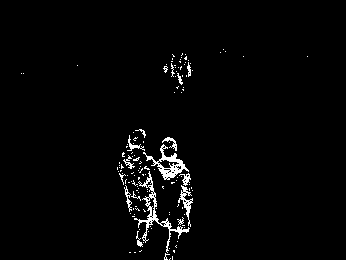person: (154, 135, 192, 259), (121, 127, 158, 247)
